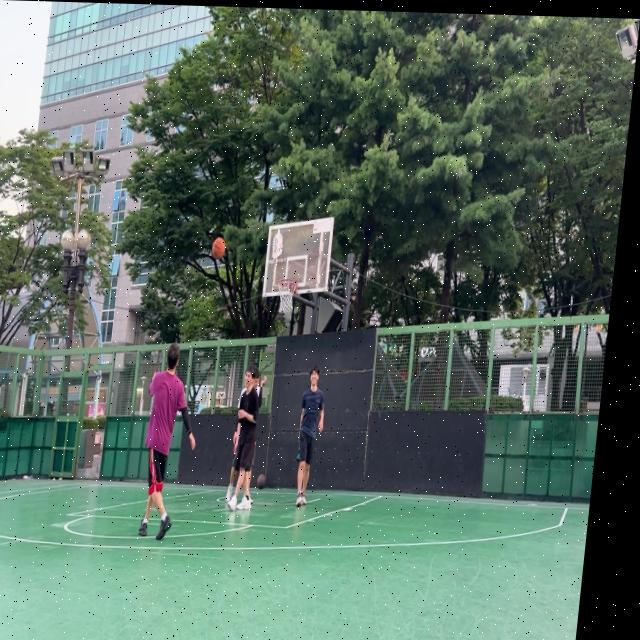basketball: (211, 237, 227, 260), (256, 473, 267, 490)
hoop: (275, 278, 299, 315)
